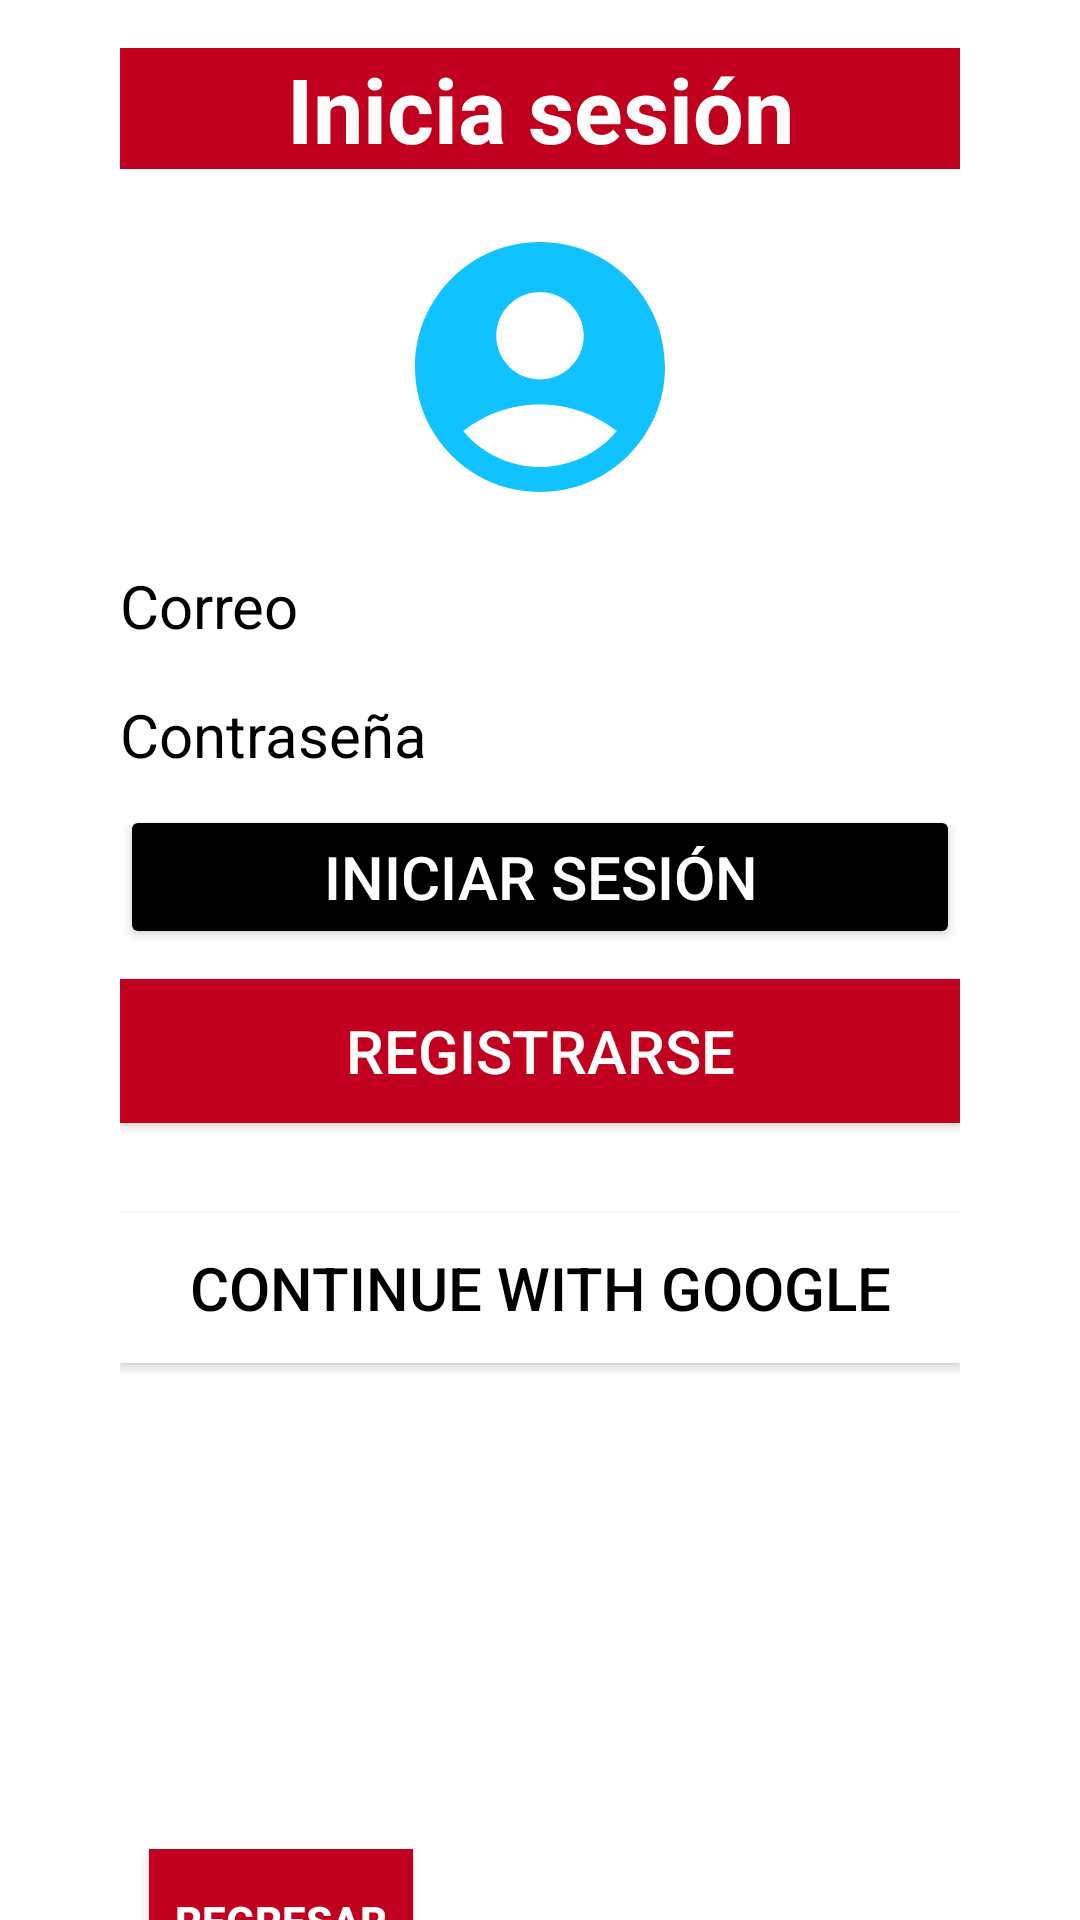

Named icons in this screenshot (1080x1920) and their centers, [x,y]:
account circle: [540,367]
